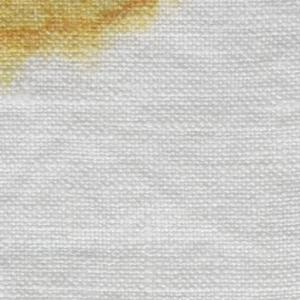Oil Stain: (1, 1, 167, 99)
